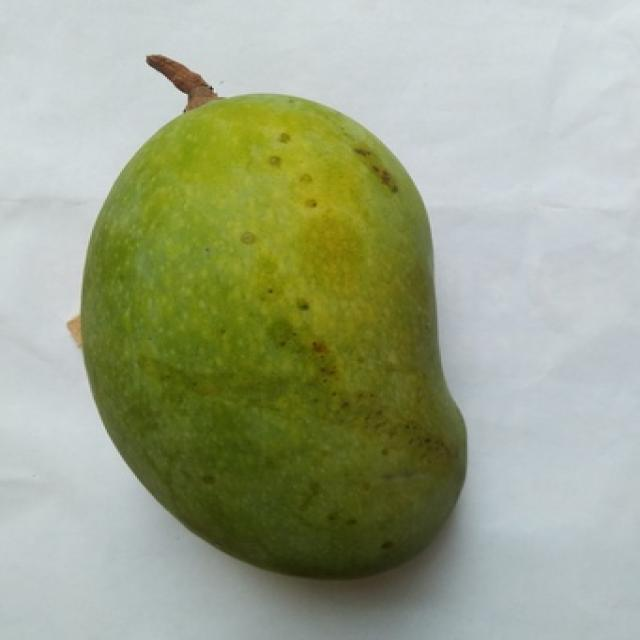Mango: (83, 58, 465, 575)
